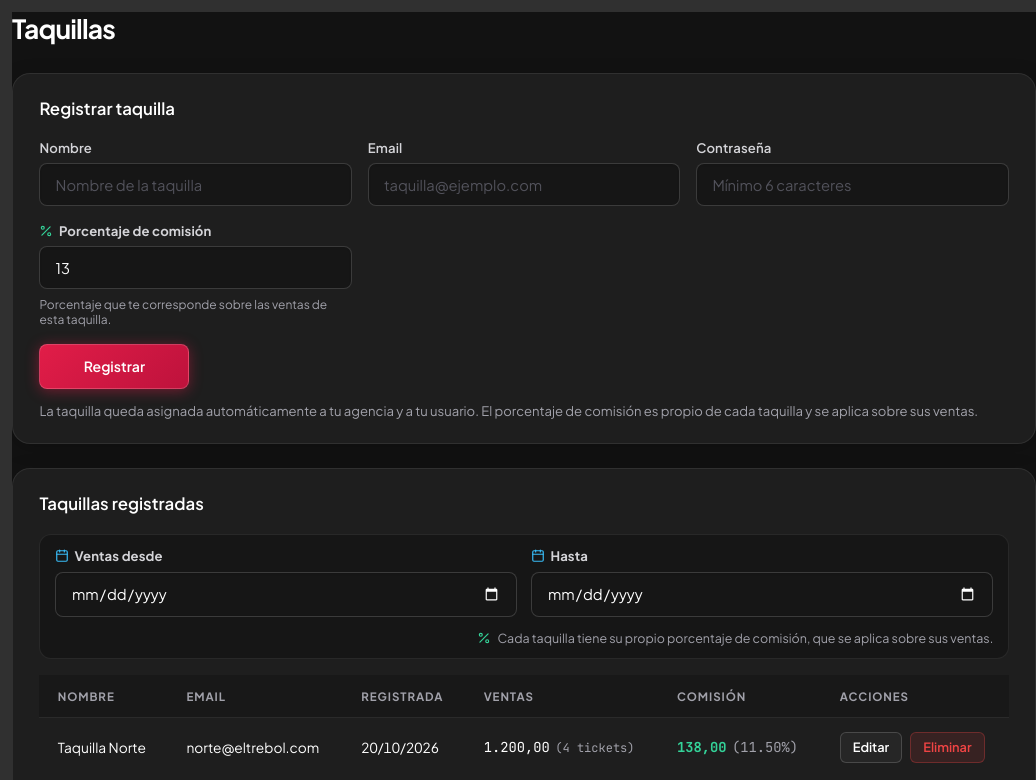
Test case: Gestion de taquillas del supervisor › carga el porcentaje propio de la taquilla al editarla
Expected: the text "Taquilla Norte" is shown, left=39, top=718, right=168, bottom=776
Click the button "Editar". click: (871, 747)
box: left=840, top=732, right=902, bottom=763
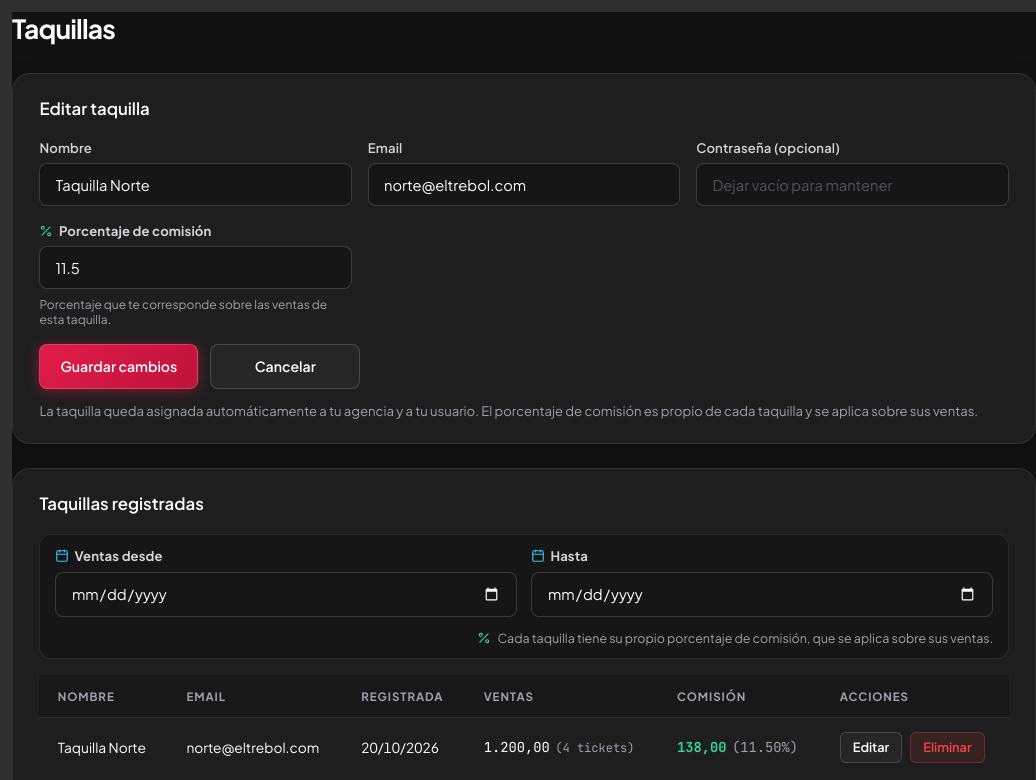
Expected: the number field with id "taquilla-comision" holds "11.5", left=39, top=246, right=352, bottom=289
